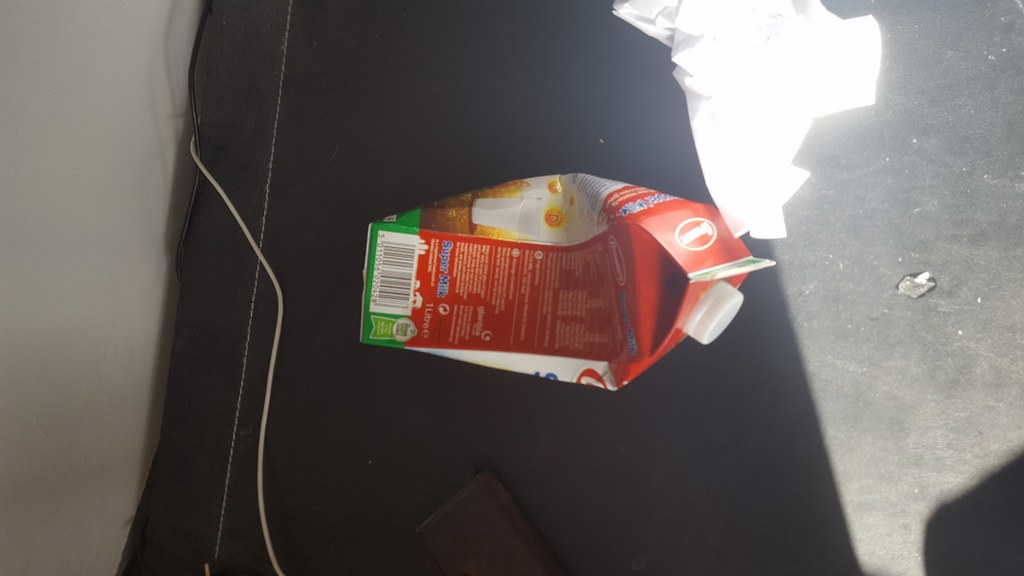Carton: (363, 167, 776, 394)
